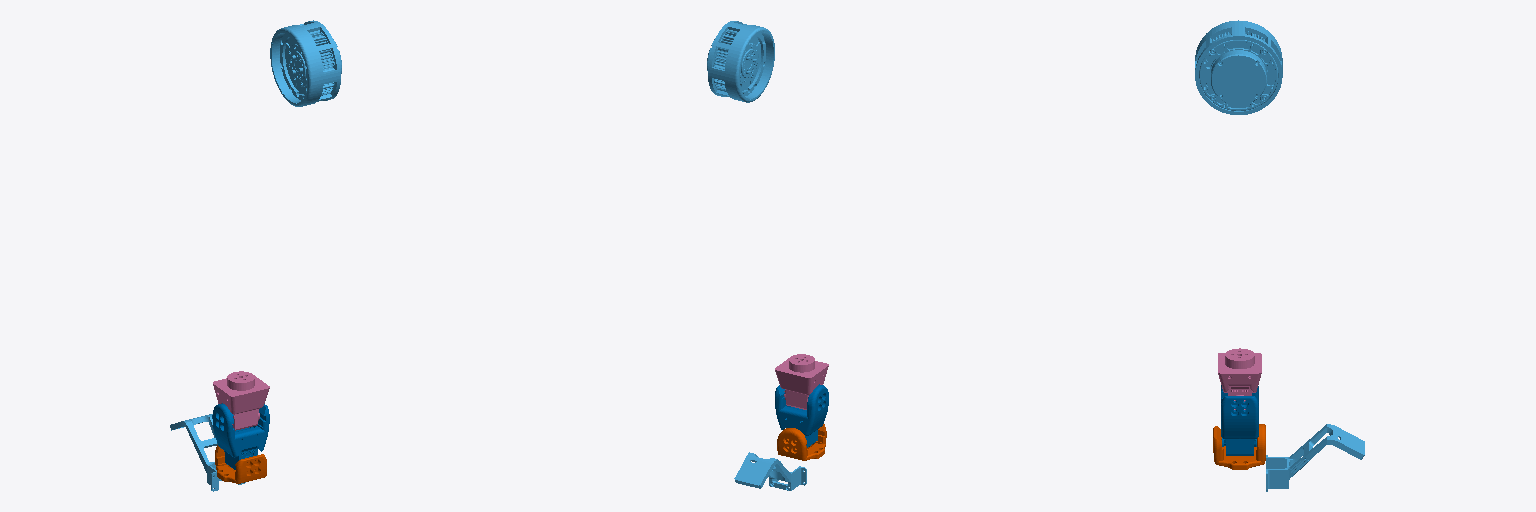
The robot description file, URDF, robot "GEM":
<?xml version="1.0" ?>
<robot name="GEM">

<material name="material_base_link">
  <color rgba="0.098039 0.098039 0.098039 1.000000"/>
</material>

<material name="material_gripper">
  <color rgba="0.901961 0.901961 0.901961 1.000000"/>
</material>

<material name="material_link1">
  <color rgba="0.098039 0.098039 0.098039 1.000000"/>
</material>

<material name="material_link2">
  <color rgba="0.627451 0.627451 0.627451 1.000000"/>
</material>

<material name="material_link3">
  <color rgba="0.098039 0.098039 0.098039 1.000000"/>
</material>

<material name="material_link4">
  <color rgba="0.627451 0.627451 0.627451 1.000000"/>
</material>

<material name="material_link5">
  <color rgba="0.964706 0.964706 0.952941 1.000000"/>
</material>

<material name="material_link6">
  <color rgba="0.964706 0.964706 0.952941 1.000000"/>
</material>

<material name="material_link7">
  <color rgba="0.964706 0.964706 0.952941 1.000000"/>
</material>

<link name="humanoid_root"/>

<joint name="left_shoulder_mount" type="fixed">
  <origin xyz="0 0 0.555685" rpy="0 0 1.570796"/>
  <parent link="humanoid_root"/>
  <child link="base_link"/>
</joint>

<link name="base_link">
  <inertial>
    <origin xyz="-7.110190486259823e-05 0.020584179481454107 8.251663248452991e-05" rpy="0 0 0"/>
    <mass value="0.4021181141517321"/>
    <inertia ixx="0.000344" iyy="0.000568" izz="0.000348" ixy="-0.0" iyz="2e-06" ixz="-0.0"/>
  </inertial>
  <visual>
    <origin xyz="0 0 0" rpy="0 0 0"/>
    <geometry>
      <mesh filename="../meshes/base_link.obj" scale="0.001 0.001 0.001"/>
    </geometry>
  </visual>
  <collision>
    <origin xyz="0 0 0" rpy="0 0 0"/>
    <geometry>
      <mesh filename="../meshes/base_link.stl" scale="0.001 0.001 0.001"/>
    </geometry>
  </collision>
</link>

<link name="link4">
  <inertial>
    <origin xyz="0.0001671623031470448 0.034197434150111714 -0.06923112931574282" rpy="0 0 0"/>
    <mass value="1.8070417979735696"/>
    <inertia ixx="0.004515" iyy="0.00365" izz="0.001586" ixy="1e-06" iyz="9.2e-05" ixz="-2.3e-05"/>
  </inertial>
  <visual>
    <origin xyz="-0.001075 -0.06621 0.222624" rpy="0 0 0"/>
    <geometry>
      <mesh filename="../meshes/link4.obj" scale="0.001 0.001 0.001"/>
    </geometry>
  </visual>
  <collision>
    <origin xyz="-0.001075 -0.06621 0.222624" rpy="0 0 0"/>
    <geometry>
      <mesh filename="../meshes/link4.stl" scale="0.001 0.001 0.001"/>
    </geometry>
  </collision>
</link>

<link name="link1">
  <inertial>
    <origin xyz="0.0024418071011194325 0.03658390380638425 8.610857673554333e-06" rpy="0 0 0"/>
    <mass value="0.9917250259666381"/>
    <inertia ixx="0.000953" iyy="0.000483" izz="0.001065" ixy="-3.6e-05" iyz="-0.0" ixz="0.0"/>
  </inertial>
  <visual>
    <origin xyz="0.0 -0.0295 3.7e-05" rpy="0 0 0"/>
    <geometry>
      <mesh filename="../meshes/link1.obj" scale="0.001 0.001 0.001"/>
    </geometry>
  </visual>
  <collision>
    <origin xyz="0.0 -0.0295 3.7e-05" rpy="0 0 0"/>
    <geometry>
      <mesh filename="../meshes/link1.stl" scale="0.001 0.001 0.001"/>
    </geometry>
  </collision>
</link>

<link name="link6">
  <inertial>
    <origin xyz="0.00023599255910261943 -0.018287923787308438 -0.02803488202283838" rpy="0 0 0"/>
    <mass value="0.6137776688446756"/>
    <inertia ixx="0.000328" iyy="0.000268" izz="0.000191" ixy="-0.0" iyz="-1.2e-05" ixz="-1e-06"/>
  </inertial>
  <visual>
    <origin xyz="-0.001075 -0.11846 0.404324" rpy="0 0 0"/>
    <geometry>
      <mesh filename="../meshes/link6.obj" scale="0.001 0.001 0.001"/>
    </geometry>
  </visual>
  <collision>
    <origin xyz="-0.001075 -0.11846 0.404324" rpy="0 0 0"/>
    <geometry>
      <mesh filename="../meshes/link6.stl" scale="0.001 0.001 0.001"/>
    </geometry>
  </collision>
</link>

<link name="link7">
  <inertial>
    <origin xyz="-0.017498407602300606 -0.00037657647630041924 -0.008107468698002385" rpy="0 0 0"/>
    <mass value="0.2280793307184985"/>
    <inertia ixx="5.3e-05" iyy="9.5e-05" izz="0.000109" ixy="0.0" iyz="1e-06" ixz="-6e-06"/>
  </inertial>
  <visual>
    <origin xyz="-0.019775 -0.09976 0.454863" rpy="0 0 0"/>
    <geometry>
      <mesh filename="../meshes/link7.obj" scale="0.001 0.001 0.001"/>
    </geometry>
  </visual>
  <collision>
    <origin xyz="-0.019775 -0.09976 0.454863" rpy="0 0 0"/>
    <geometry>
      <mesh filename="../meshes/link7.stl" scale="0.001 0.001 0.001"/>
    </geometry>
  </collision>
</link>

<link name="link5">
  <inertial>
    <origin xyz="4.2553073390546974e-07 0.00014924868962169768 -0.026338876120653276" rpy="0 0 0"/>
    <mass value="0.5047715179751562"/>
    <inertia ixx="0.000173" iyy="0.000158" izz="0.000121" ixy="-0.0" iyz="1e-06" ixz="0.0"/>
  </inertial>
  <visual>
    <origin xyz="-0.001075 -0.09976 0.357124" rpy="0 0 0"/>
    <geometry>
      <mesh filename="../meshes/link5.obj" scale="0.001 0.001 0.001"/>
    </geometry>
  </visual>
  <collision>
    <origin xyz="-0.001075 -0.09976 0.357124" rpy="0 0 0"/>
    <geometry>
      <mesh filename="../meshes/link5.stl" scale="0.001 0.001 0.001"/>
    </geometry>
  </collision>
</link>

<link name="link2">
  <inertial>
    <origin xyz="-0.03169743813054248 0.0001667389450882989 -0.06923113495650104" rpy="0 0 0"/>
    <mass value="1.8070417979735696"/>
    <inertia ixx="0.00365" iyy="0.004515" izz="0.001586" ixy="-1e-06" iyz="-2.3e-05" ixz="-9.2e-05"/>
  </inertial>
  <visual>
    <origin xyz="-0.0318 -0.09963 3.7e-05" rpy="0 0 0"/>
    <geometry>
      <mesh filename="../meshes/link2.obj" scale="0.001 0.001 0.001"/>
    </geometry>
  </visual>
  <collision>
    <origin xyz="-0.0318 -0.09963 3.7e-05" rpy="0 0 0"/>
    <geometry>
      <mesh filename="../meshes/link2.stl" scale="0.001 0.001 0.001"/>
    </geometry>
  </collision>
</link>

<link name="link3">
  <inertial>
    <origin xyz="0.00017988105049343095 -0.001905489899407073 -0.05280953087547724" rpy="0 0 0"/>
    <mass value="0.9508097089870917"/>
    <inertia ixx="0.001219" iyy="0.00111" izz="0.000465" ixy="0.0" iyz="-3.3e-05" ixz="0.0"/>
  </inertial>
  <visual>
    <origin xyz="-0.00075 -0.09963 0.134537" rpy="0 0 0"/>
    <geometry>
      <mesh filename="../meshes/link3.obj" scale="0.001 0.001 0.001"/>
    </geometry>
  </visual>
  <collision>
    <origin xyz="-0.00075 -0.09963 0.134537" rpy="0 0 0"/>
    <geometry>
      <mesh filename="../meshes/link3.stl" scale="0.001 0.001 0.001"/>
    </geometry>
  </collision>
</link>

<link name="gripper">
  <inertial>
    <origin xyz="-0.005762024324339976 0.0001249796969595568 -0.05461676129031545" rpy="0 0 0"/>
    <mass value="1.3045268157382102"/>
    <inertia ixx="0.003182" iyy="0.002799" izz="0.001878" ixy="7e-06" iyz="1.1e-05" ixz="-0.000649"/>
  </inertial>
  <visual>
    <origin xyz="0 0 0" rpy="0 0 0"/>
    <geometry>
      <mesh filename="../meshes/gripper_pincopen.obj" scale="0.001 0.001 0.001"/>
    </geometry>
  </visual>
  <visual>
    <origin xyz="-0.014983 0.011181 0.010174" rpy="1.570796 -0.0 1.570796"/>
    <geometry>
      <mesh filename="../meshes/gripper_camera.obj" scale="0.001 0.001 0.001"/>
    </geometry>
  </visual>
  <collision>
    <origin xyz="-0.019775 -0.09976 0.454863" rpy="0 0 0"/>
    <geometry>
      <mesh filename="../meshes/gripper.stl" scale="0.001 0.001 0.001"/>
    </geometry>
  </collision>
</link>

<joint name="link3_to_link4" type="revolute">
  <origin xyz="0.000325 -0.03342 -0.088087" rpy="0 0 0"/>
  <parent link="link3"/>
  <child link="link4"/>
  <axis xyz="-0.0 1.0 -0.0"/>
  <limit upper="2.111848" lower="-2.111848" effort="100" velocity="100"/>
</joint>

<joint name="base_link_to_link1" type="revolute">
  <origin xyz="0.0 0.0295 -3.7e-05" rpy="0 0 0"/>
  <parent link="base_link"/>
  <child link="link1"/>
  <axis xyz="0.0 -1.0 0.0"/>
  <limit upper="3.141593" lower="-2.356194" effort="100" velocity="100"/>
</joint>

<joint name="link5_to_link6" type="revolute">
  <origin xyz="0.0 0.0187 -0.0472" rpy="0 0 0"/>
  <parent link="link5"/>
  <child link="link6"/>
  <axis xyz="0.0 -1.0 0.0"/>
  <limit upper="1.396263" lower="-1.396263" effort="100" velocity="100"/>
</joint>

<joint name="link6_to_link7" type="revolute">
  <origin xyz="0.0187 -0.0187 -0.050539" rpy="0 0 0"/>
  <parent link="link6"/>
  <child link="link7"/>
  <axis xyz="-1.0 0.0 -0.0"/>
  <limit upper="1.396263" lower="-1.396263" effort="100" velocity="100"/>
</joint>

<joint name="link4_to_link5" type="revolute">
  <origin xyz="0.0 0.03355 -0.1345" rpy="0 0 0"/>
  <parent link="link4"/>
  <child link="link5"/>
  <axis xyz="0.0 0.0 1.0"/>
  <limit upper="1.570796" lower="-1.570796" effort="100" velocity="100"/>
</joint>

<joint name="link1_to_link2" type="revolute">
  <origin xyz="0.0318 0.07013 0.0" rpy="0 0 0"/>
  <parent link="link1"/>
  <child link="link2"/>
  <axis xyz="-1.0 0.0 0.0"/>
  <limit upper="0.610865" lower="-2.356194" effort="100" velocity="100"/>
</joint>

<joint name="link2_to_link3" type="revolute">
  <origin xyz="-0.03105 0.0 -0.1345" rpy="0 0 0"/>
  <parent link="link2"/>
  <child link="link3"/>
  <axis xyz="0.0 0.0 1.0"/>
  <limit upper="1.570796" lower="-1.570796" effort="100" velocity="100"/>
</joint>

<joint name="link7_to_gripper" type="fixed">
  <origin xyz="0.0 0.0 0.0" rpy="0.0 1.570796 0.0"/>
  <parent link="link7"/>
  <child link="gripper"/>
</joint>

</robot>

--- Facts derived from the render (not from the file) ---
The picture shows the robot from 3 angles, left to right: view 1: azimuth 30°, elevation 25°; view 2: azimuth 150°, elevation 25°; view 3: azimuth 270°, elevation 25°; orthographic projection.
Model GEM with 10 links and 9 joints (7 revolute, 2 fixed), rooted at humanoid_root, posed all joints at 0.
Links seen in each view (by area): view 1: base_link, link5, link6, link7, gripper; view 2: base_link, link5, link6, gripper, link7; view 3: base_link, gripper, link6, link5, link7.
Link boxes in pixels (x1,y1,x2,y2): base_link: (270, 20, 341, 106); link5: (213, 371, 269, 430); link6: (212, 403, 269, 469); link7: (215, 445, 266, 483); gripper: (170, 414, 245, 491); base_link: (707, 21, 774, 102); link5: (775, 354, 828, 409); link6: (775, 384, 828, 447); gripper: (734, 452, 806, 490); link7: (777, 424, 826, 460); base_link: (1195, 20, 1282, 114); gripper: (1266, 424, 1364, 491); link6: (1221, 385, 1258, 455); link5: (1218, 348, 1261, 409); link7: (1213, 424, 1265, 469).
Bounding box of the posed robot: 0.137 × 0.1714 × 0.5443 m (x, y, z).
Meshes: 10 distinct files referenced, 5 mesh visuals loaded (5 OBJ); not drawn: 5 (reference not matched to a file when rendering).
